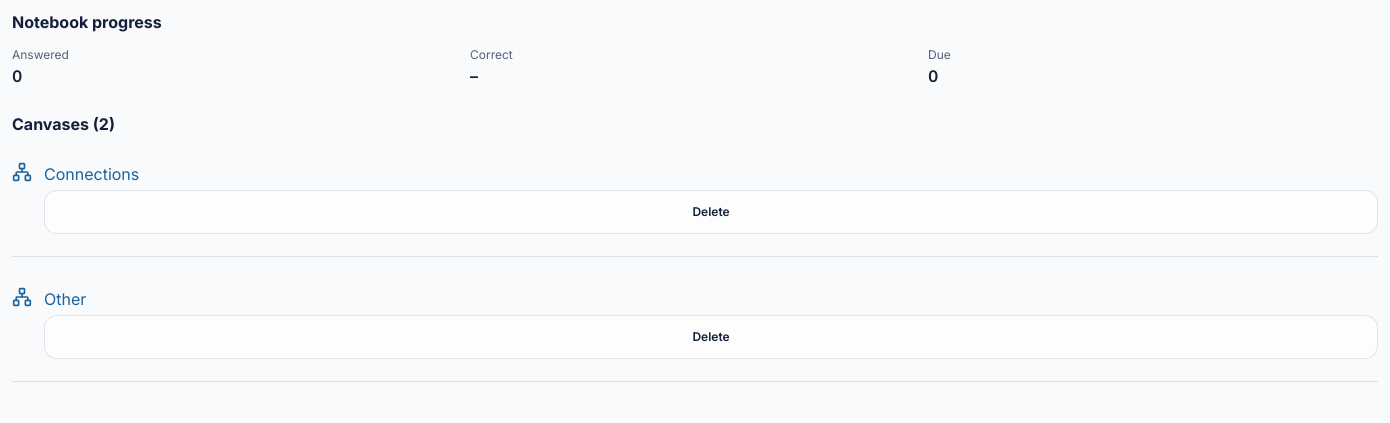
Test: confirms inline, focuses Cancel, and cancels without deleting
Click the button with aria-label "Delete canvas Connections": (711, 212) [44,190,1378,234]
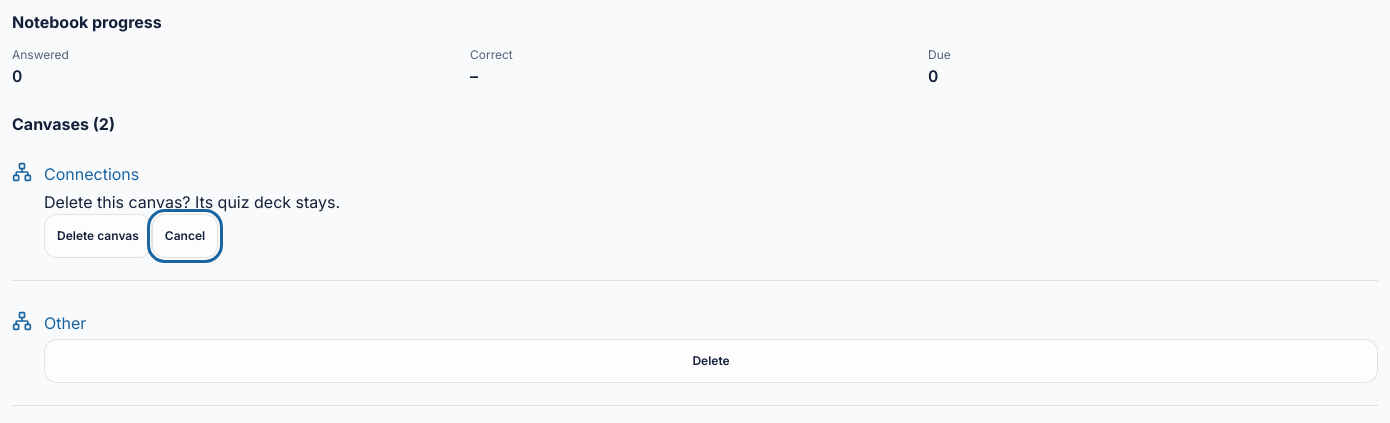
Expected: the text "Delete this canvas? Its quiz deck stays." is shown, [44,192,340,212]
Click the button "Cancel": (185, 236) [152,214,218,258]
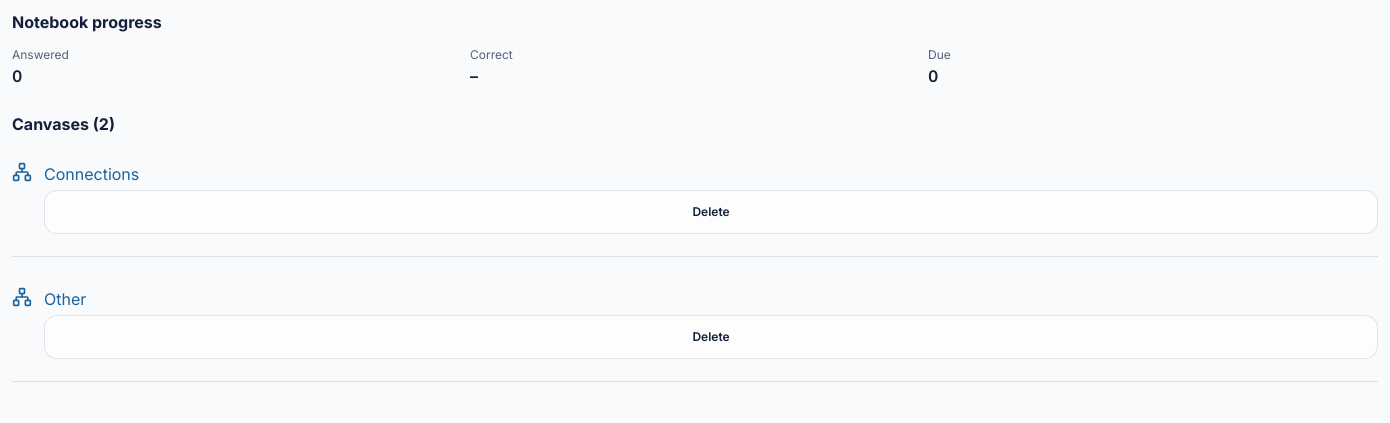
Expected: the link named "Open Connections" is shown, [43,164,139,196]
Expected: the text "Delete this canvas? Its quiz deck stays." is gone
